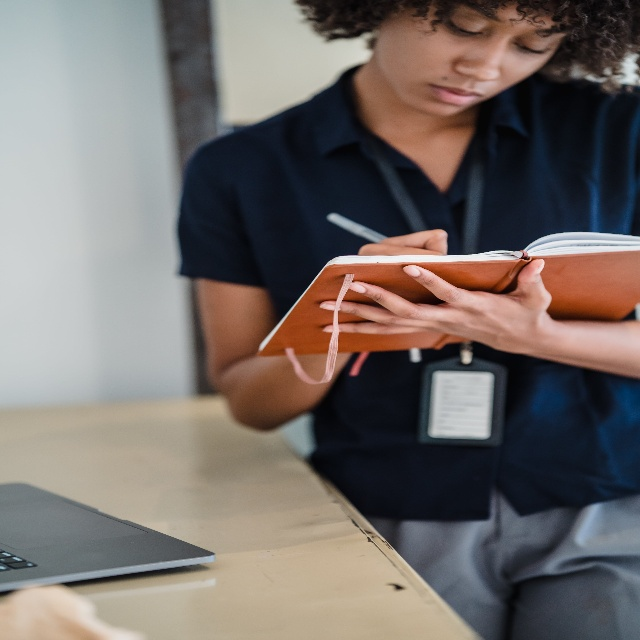Sin_guantes: (317, 258, 553, 361), (356, 228, 449, 261)
